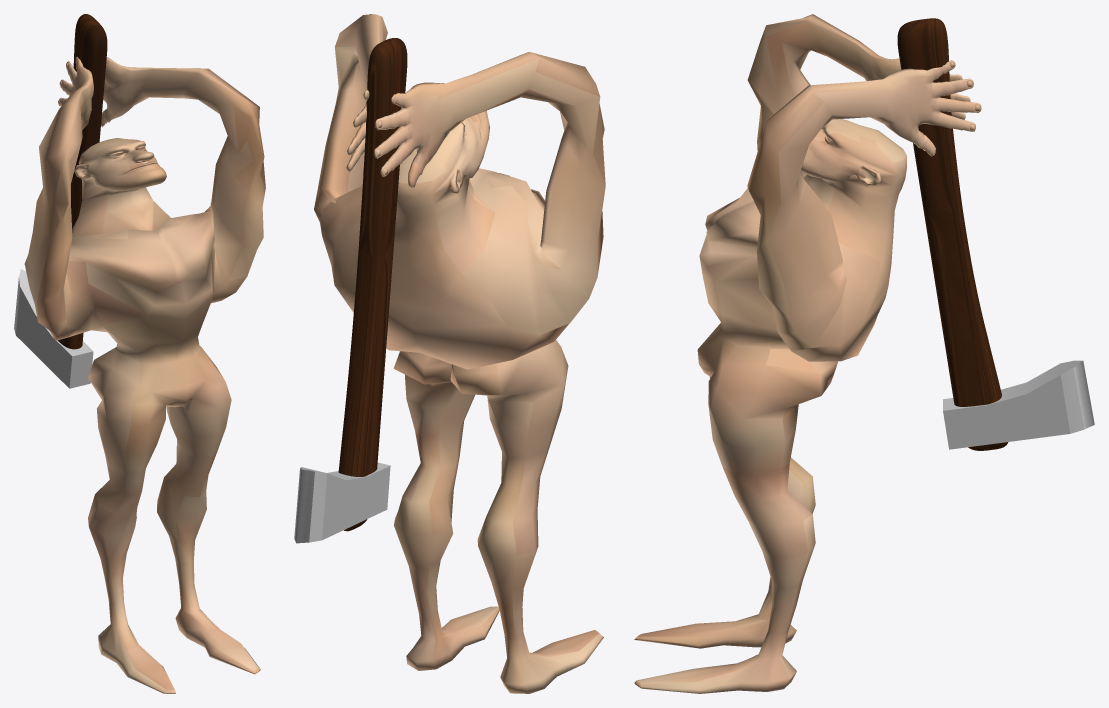
File: axeStance1.obj
The picture shows the model from 3 angles, left to right: view 1: azimuth 30°, elevation 25°; view 2: azimuth 150°, elevation 25°; view 3: azimuth 270°, elevation 25°; orthographic projection. The views are drawn at different scales.
Parts seen in each view (by area): view 1: soldiersoldier120, pCube3; view 2: soldiersoldier120, pCube3; view 3: soldiersoldier120, pCube3.
Part boxes in pixels (bbox=[...]): soldiersoldier120: bbox=[24, 57, 265, 693]; pCube3: bbox=[14, 14, 107, 388]; soldiersoldier120: bbox=[314, 14, 605, 693]; pCube3: bbox=[294, 38, 407, 543]; soldiersoldier120: bbox=[634, 14, 981, 693]; pCube3: bbox=[897, 18, 1094, 450].
Bounding box in the file's own units: 2.04 × 5.05 × 3.27.
